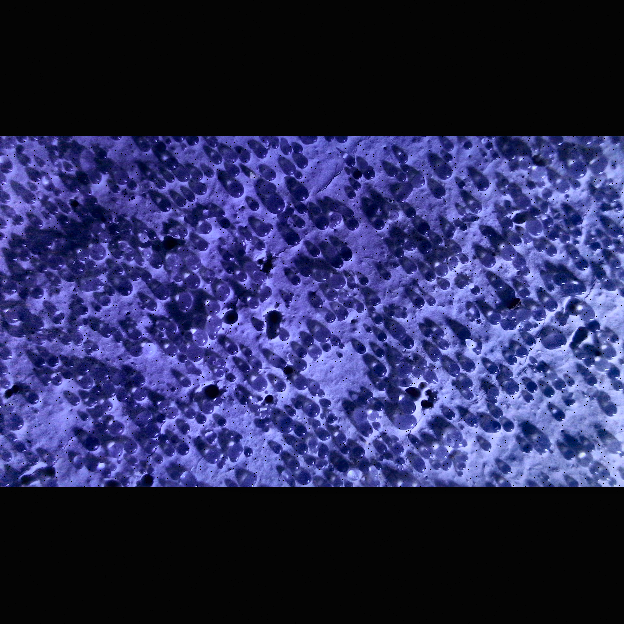GrassBeadSeg: (182, 175, 573, 478), (175, 294, 461, 444), (193, 345, 535, 447), (56, 256, 192, 481), (218, 213, 424, 348), (426, 232, 611, 371), (246, 232, 416, 344), (66, 239, 209, 343), (267, 166, 577, 211), (253, 408, 460, 473), (502, 219, 609, 342), (108, 403, 257, 484), (106, 341, 239, 422), (158, 352, 342, 407), (53, 215, 229, 272), (53, 358, 159, 449), (103, 236, 152, 419), (52, 215, 147, 309), (318, 382, 464, 439), (115, 171, 191, 275), (285, 256, 466, 298), (403, 287, 526, 346), (532, 307, 599, 412), (136, 328, 208, 423), (36, 388, 147, 448), (168, 321, 305, 369), (395, 247, 526, 297), (109, 325, 176, 420), (305, 333, 457, 373), (77, 335, 192, 387), (107, 307, 142, 473), (520, 319, 589, 400), (501, 370, 582, 439), (520, 321, 598, 392), (112, 228, 214, 282), (286, 295, 318, 462), (288, 407, 396, 456), (454, 368, 506, 466), (121, 178, 159, 307), (10, 351, 119, 392), (399, 153, 434, 280), (17, 257, 100, 310), (249, 204, 312, 271), (550, 376, 593, 473), (33, 200, 89, 273), (166, 256, 329, 281), (552, 208, 611, 276), (20, 419, 110, 463), (274, 196, 319, 281), (35, 394, 90, 463), (560, 394, 604, 479), (47, 374, 112, 431), (241, 152, 373, 179), (204, 429, 283, 473), (41, 347, 95, 410), (458, 225, 526, 275), (466, 422, 566, 454), (94, 255, 170, 296), (419, 201, 478, 252), (22, 380, 93, 422), (116, 191, 226, 218), (172, 253, 199, 360), (29, 250, 103, 289), (499, 416, 553, 469), (374, 407, 431, 456), (297, 349, 385, 380), (330, 217, 384, 266), (18, 393, 84, 433), (487, 420, 561, 454), (565, 182, 602, 250), (78, 439, 191, 461), (342, 228, 422, 259), (433, 326, 518, 355), (399, 285, 476, 317), (311, 336, 333, 447), (372, 421, 431, 462), (413, 461, 598, 474), (508, 240, 532, 338), (96, 174, 161, 210), (415, 247, 459, 300), (236, 275, 337, 298), (250, 149, 292, 204), (179, 342, 329, 357), (86, 414, 169, 441), (24, 218, 59, 282), (186, 357, 226, 412), (144, 244, 206, 279), (423, 326, 447, 416), (433, 332, 471, 388), (17, 143, 42, 228), (298, 157, 331, 221), (56, 265, 134, 292), (254, 404, 283, 475), (95, 251, 151, 287), (433, 187, 520, 210), (132, 294, 166, 352), (435, 269, 473, 320), (500, 190, 547, 231), (142, 194, 197, 229), (457, 210, 519, 241), (234, 425, 306, 451), (383, 269, 434, 305), (405, 193, 437, 250), (439, 344, 472, 399), (445, 430, 545, 448), (373, 377, 412, 423), (90, 179, 167, 202), (440, 414, 474, 466), (95, 246, 130, 296), (15, 267, 78, 294), (34, 180, 94, 207), (367, 308, 462, 325), (82, 305, 105, 374), (254, 319, 286, 368), (542, 297, 574, 346), (43, 356, 79, 399), (59, 373, 110, 403), (129, 230, 179, 260), (512, 257, 536, 319), (501, 380, 532, 427), (208, 171, 225, 256), (139, 258, 158, 334), (445, 408, 482, 447), (338, 307, 374, 347), (46, 208, 68, 273), (522, 298, 552, 345), (25, 216, 74, 244), (137, 386, 202, 407), (281, 301, 320, 336), (85, 335, 125, 369), (12, 197, 66, 222), (40, 173, 105, 193), (179, 153, 223, 182), (534, 360, 588, 383), (167, 165, 208, 195), (253, 333, 288, 368), (412, 369, 587, 376), (242, 244, 266, 295), (463, 362, 496, 399), (554, 316, 568, 403), (239, 143, 303, 162), (410, 434, 455, 461), (411, 436, 466, 458), (290, 245, 320, 285), (58, 276, 106, 301), (342, 289, 371, 330), (133, 327, 176, 354), (23, 219, 59, 251), (217, 357, 280, 375), (582, 281, 605, 330), (327, 390, 372, 415), (12, 166, 42, 203), (227, 151, 296, 167), (105, 323, 139, 355), (12, 323, 47, 354), (430, 459, 585, 466), (11, 355, 46, 386), (376, 365, 421, 389), (511, 198, 526, 269), (102, 398, 140, 426), (23, 323, 111, 335), (456, 283, 500, 307), (576, 331, 608, 364), (122, 389, 161, 416), (373, 472, 454, 485), (346, 156, 396, 177), (413, 278, 449, 307), (182, 292, 202, 344), (275, 358, 307, 390), (256, 240, 320, 256), (340, 291, 393, 310), (319, 442, 386, 457), (209, 329, 230, 376), (336, 414, 371, 442), (169, 159, 229, 175), (528, 329, 556, 363), (532, 348, 577, 369), (72, 168, 207, 175), (563, 186, 610, 206), (561, 375, 600, 399), (128, 422, 161, 450), (129, 398, 168, 421), (82, 232, 114, 260), (41, 208, 93, 225), (158, 277, 175, 329), (255, 152, 295, 174), (498, 439, 527, 469), (131, 429, 158, 461), (167, 421, 192, 455), (148, 257, 164, 310), (251, 364, 286, 388), (208, 319, 264, 334), (55, 185, 86, 212), (197, 421, 219, 459), (132, 444, 176, 463), (577, 439, 602, 472), (295, 401, 334, 422), (307, 444, 350, 463), (418, 339, 448, 366), (490, 303, 552, 316), (162, 189, 197, 212), (434, 233, 457, 268), (180, 348, 247, 360), (135, 341, 156, 379), (318, 423, 371, 438), (543, 216, 574, 241), (93, 264, 117, 296), (238, 271, 258, 309), (548, 376, 611, 388), (356, 317, 382, 346), (395, 379, 404, 462), (374, 336, 413, 355), (406, 206, 473, 217), (392, 447, 424, 470), (68, 331, 141, 341), (554, 237, 581, 264), (98, 440, 126, 466), (16, 292, 40, 322), (182, 416, 227, 432), (299, 418, 320, 452), (355, 329, 386, 352), (28, 250, 92, 261), (55, 373, 63, 460), (313, 296, 346, 317), (69, 367, 99, 390), (353, 441, 402, 455), (569, 270, 597, 294), (158, 183, 187, 206), (68, 336, 87, 371), (426, 270, 465, 287), (167, 399, 214, 413), (16, 310, 70, 322), (122, 174, 203, 182), (516, 321, 534, 357), (225, 146, 268, 161), (393, 251, 457, 261), (86, 373, 115, 395), (211, 446, 253, 461), (583, 228, 609, 252), (168, 343, 237, 352), (181, 376, 196, 417), (299, 211, 335, 228), (521, 379, 568, 392), (93, 425, 123, 444), (138, 232, 157, 262), (168, 404, 180, 451), (23, 317, 51, 336), (584, 242, 598, 280), (54, 316, 65, 364), (488, 278, 500, 322), (404, 212, 429, 233), (335, 437, 364, 455), (195, 158, 221, 178), (373, 399, 383, 450), (594, 239, 611, 269), (590, 357, 606, 387), (92, 437, 140, 447), (429, 288, 477, 298), (226, 236, 246, 260), (229, 165, 265, 178), (487, 354, 513, 372), (274, 450, 300, 468), (354, 294, 380, 312), (82, 295, 113, 310), (11, 374, 57, 384), (216, 357, 236, 380), (169, 175, 189, 198), (509, 235, 539, 250), (114, 419, 127, 453), (444, 233, 461, 259), (45, 337, 118, 343), (15, 286, 51, 298), (540, 393, 558, 417), (479, 438, 522, 448), (92, 205, 99, 266), (48, 164, 62, 194), (177, 199, 188, 237), (424, 364, 450, 380), (291, 443, 308, 467), (242, 363, 253, 400), (596, 371, 606, 411), (361, 409, 377, 434), (132, 179, 168, 190), (84, 364, 112, 378), (116, 264, 140, 280), (597, 259, 609, 291), (563, 248, 580, 270), (543, 246, 571, 259), (59, 154, 111, 161), (305, 427, 315, 463), (144, 247, 161, 268), (55, 338, 94, 347), (422, 455, 450, 467), (246, 348, 253, 395), (521, 317, 562, 325), (506, 345, 524, 363), (531, 240, 550, 257), (47, 150, 66, 167), (96, 383, 125, 394), (56, 206, 85, 217), (418, 331, 427, 366), (404, 240, 430, 252), (324, 308, 348, 321), (439, 277, 465, 289), (311, 440, 323, 466), (356, 278, 367, 306), (14, 437, 31, 455), (348, 218, 373, 230), (196, 413, 223, 424), (216, 363, 249, 372), (518, 238, 527, 271), (537, 194, 547, 223), (322, 397, 358, 405), (475, 313, 511, 321), (14, 428, 27, 450), (432, 238, 460, 248), (488, 406, 500, 429), (61, 171, 71, 198), (491, 414, 510, 428), (27, 438, 42, 455), (560, 299, 577, 314), (28, 266, 45, 281), (588, 363, 609, 375), (99, 293, 113, 311), (325, 294, 335, 319), (370, 298, 383, 317), (332, 212, 347, 228), (524, 385, 548, 395), (240, 294, 260, 306), (27, 239, 51, 249), (318, 447, 344, 456), (388, 157, 406, 170), (114, 225, 122, 254), (19, 254, 29, 277), (265, 168, 284, 180), (330, 273, 345, 288), (435, 164, 450, 179), (279, 416, 294, 431), (69, 188, 77, 216), (230, 442, 243, 459), (345, 160, 362, 173), (136, 372, 147, 392), (352, 169, 374, 179), (133, 269, 151, 281), (294, 186, 309, 200), (186, 254, 201, 268), (527, 168, 541, 183), (432, 443, 447, 457), (372, 362, 387, 376), (396, 360, 411, 374), (315, 326, 330, 340), (345, 465, 360, 479), (253, 375, 268, 389), (426, 346, 441, 360), (294, 374, 309, 388), (459, 356, 474, 370), (186, 273, 201, 287), (252, 269, 267, 283), (215, 284, 230, 298), (174, 273, 204, 280), (286, 231, 300, 245), (314, 215, 328, 229), (230, 183, 244, 197), (198, 220, 212, 234), (497, 245, 511, 259), (523, 221, 537, 235), (513, 159, 527, 173), (390, 324, 404, 338), (401, 398, 415, 412), (574, 306, 588, 320), (255, 222, 269, 236), (208, 315, 222, 329), (332, 254, 346, 268), (581, 164, 594, 179), (401, 414, 416, 427), (306, 400, 319, 415), (298, 467, 311, 482), (285, 433, 301, 445), (359, 274, 391, 280), (291, 270, 312, 279), (410, 174, 423, 188), (479, 254, 493, 267), (473, 178, 487, 191), (549, 183, 563, 196), (593, 343, 606, 357), (501, 379, 515, 392), (568, 446, 582, 459), (483, 384, 497, 397), (308, 343, 321, 357), (596, 433, 609, 447), (206, 300, 220, 313), (551, 279, 577, 286), (283, 145, 303, 154), (538, 222, 553, 234), (39, 449, 57, 459), (375, 333, 386, 349), (446, 223, 465, 232), (273, 442, 290, 452), (322, 336, 339, 346), (104, 158, 113, 176), (158, 438, 165, 461), (229, 451, 249, 459), (33, 161, 41, 181), (298, 337, 313, 347), (404, 261, 416, 273), (569, 351, 586, 359), (115, 187, 132, 195), (288, 399, 303, 408), (116, 249, 129, 259), (45, 333, 61, 341), (189, 137, 200, 148), (209, 137, 220, 148), (437, 263, 447, 275), (336, 342, 344, 357), (565, 220, 574, 233), (357, 392, 366, 405), (387, 310, 406, 316), (509, 323, 520, 333), (142, 143, 153, 153), (159, 397, 169, 408), (556, 233, 574, 239), (457, 438, 464, 453), (89, 343, 102, 351), (157, 325, 165, 338), (106, 398, 116, 408), (444, 225, 453, 235), (371, 467, 377, 482), (507, 314, 513, 328), (43, 220, 51, 230), (93, 197, 101, 207), (43, 175, 50, 186), (87, 402, 92, 417), (468, 317, 480, 323), (142, 226, 150, 235), (284, 468, 291, 478), (92, 394, 98, 405), (346, 191, 354, 199), (345, 208, 353, 216), (580, 460, 589, 467), (318, 389, 324, 399), (374, 460, 381, 468), (334, 477, 341, 485), (195, 367, 202, 375), (88, 346, 96, 353), (159, 145, 167, 152), (145, 169, 153, 176), (152, 175, 160, 182), (271, 142, 279, 149), (295, 171, 303, 178), (352, 182, 360, 189), (311, 206, 319, 213), (297, 220, 305, 227), (396, 194, 404, 201), (348, 281, 356, 288), (226, 265, 234, 272), (87, 363, 93, 372), (391, 434, 398, 441), (377, 452, 384, 459), (263, 424, 270, 431), (221, 452, 228, 459), (114, 458, 121, 465), (526, 148, 533, 155), (154, 138, 161, 145), (262, 136, 269, 143), (299, 205, 306, 212), (311, 387, 317, 395), (227, 430, 233, 438), (215, 397, 221, 405), (150, 463, 156, 471), (172, 384, 178, 392), (497, 191, 505, 197), (497, 183, 505, 189), (487, 155, 495, 161), (476, 153, 484, 159), (445, 146, 453, 152), (386, 451, 392, 458), (385, 436, 391, 443), (327, 461, 333, 468), (241, 396, 247, 403), (218, 459, 225, 465), (236, 432, 242, 439), (319, 410, 325, 417), (127, 475, 133, 482), (456, 182, 463, 188), (398, 175, 405, 181), (523, 185, 530, 191), (482, 146, 489, 152), (574, 144, 581, 150), (585, 145, 592, 151), (536, 209, 543, 215), (538, 155, 545, 161), (143, 463, 148, 471), (443, 157, 449, 163), (566, 240, 572, 246), (531, 184, 538, 189), (462, 146, 469, 151), (527, 213, 534, 218), (474, 348, 479, 354)
